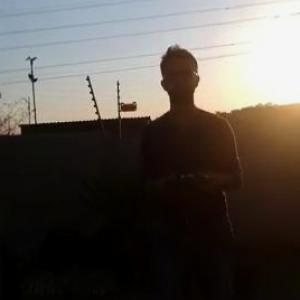follow: (136, 40, 250, 299)
